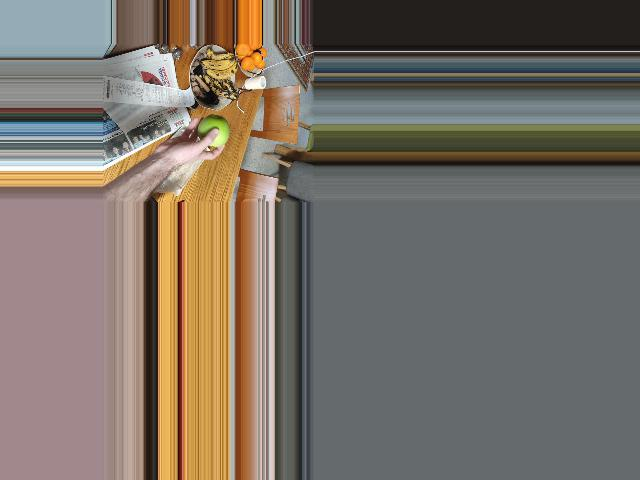apple: (195, 114, 233, 146)
